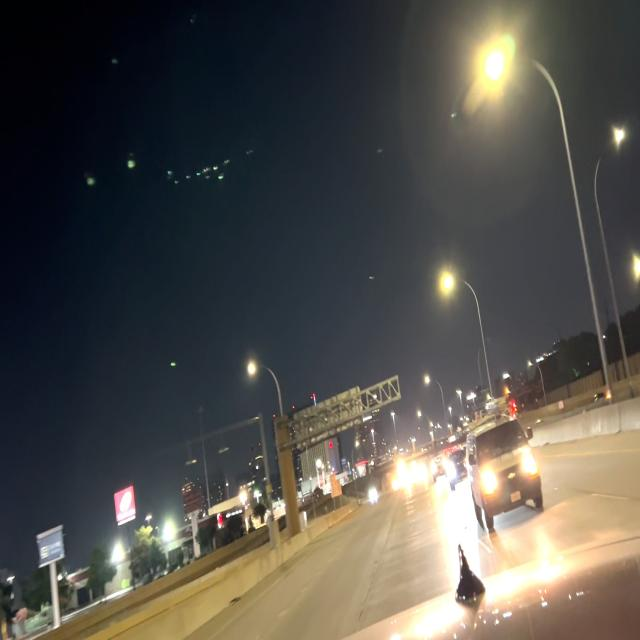back-of-sign: (293, 384, 364, 445), (328, 470, 343, 501)
